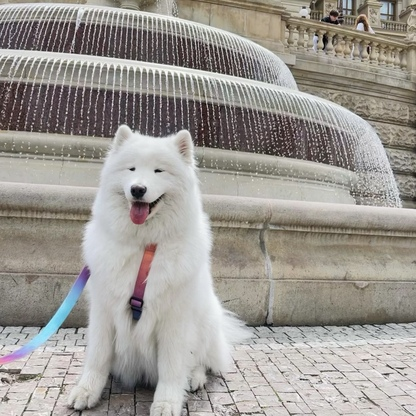samoyed: (60, 120, 257, 416)
